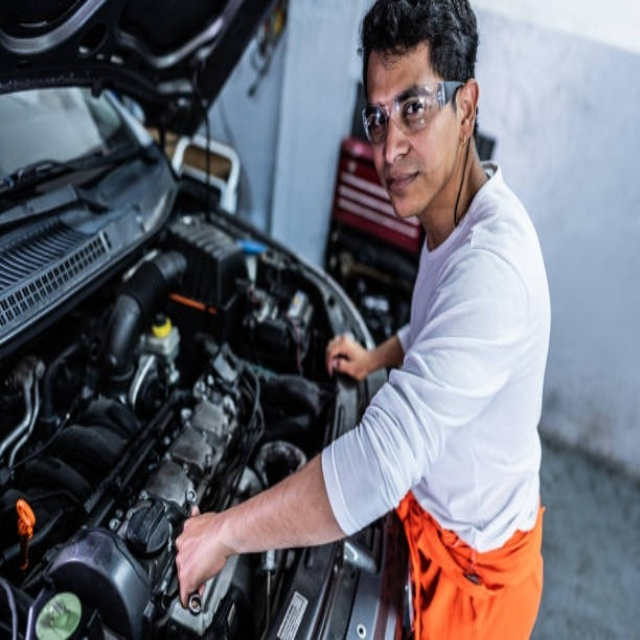Gafas: (362, 79, 464, 144)
Sin_guantes: (173, 503, 235, 610), (324, 331, 369, 382)
Sin_mascara: (382, 162, 429, 215)
